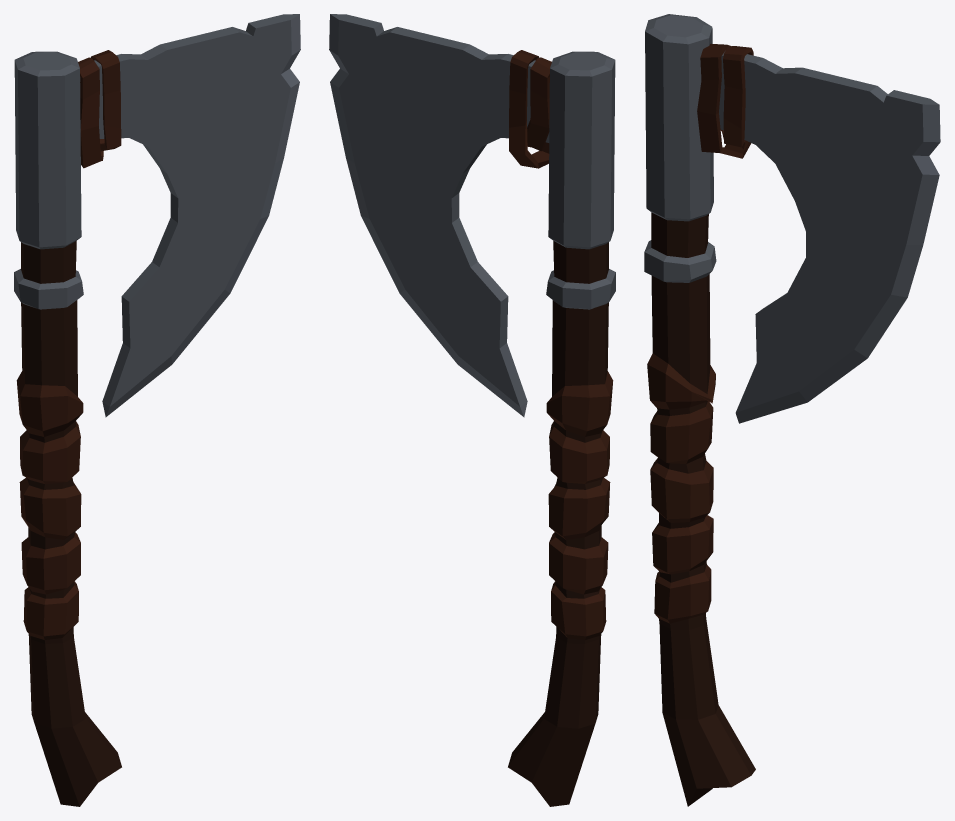
Rendered from Axe_Small.glb.
3 views of the same model, side by side, from view 1: azimuth 30°, elevation 25°; view 2: azimuth 150°, elevation 25°; view 3: azimuth 330°, elevation 25° (orthographic). The views are drawn at different scales.
Visible parts, largest first — view 1: Axe_Small; view 2: Axe_Small; view 3: Axe_Small.
Boxes of the visible parts, x1,y1,x2,y2 form: Axe_Small: (14, 14, 300, 806); Axe_Small: (329, 14, 615, 806); Axe_Small: (644, 14, 940, 806).
Size of the model in its own units: 0.1873 by 0.473 by 0.0397.
